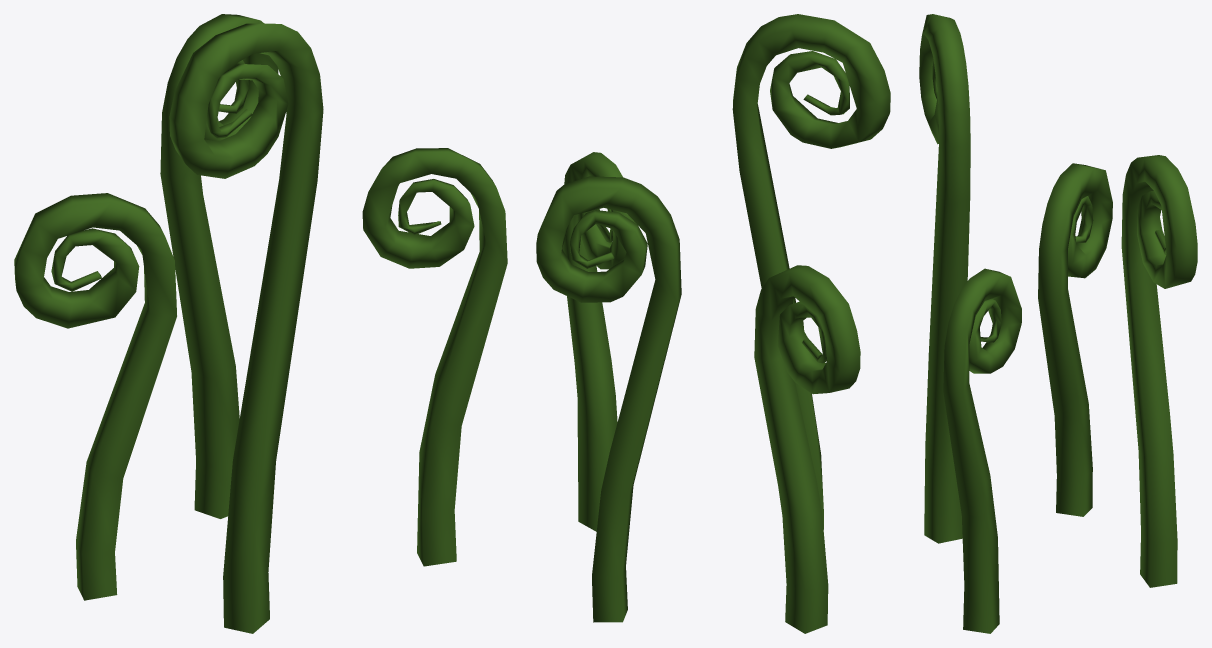
Rendered from plant-3.glb.
The picture shows the model from 3 angles, left to right: view 1: azimuth 30°, elevation 25°; view 2: azimuth 150°, elevation 25°; view 3: azimuth 270°, elevation 25°; orthographic projection. The views are drawn at different scales.
Visible parts, largest first — view 1: Plant_3; view 2: Plant_3; view 3: Plant_3.
Boxes of the visible parts, left/top/right/bottom form: Plant_3: left=14, top=14, right=507, bottom=633; Plant_3: left=536, top=14, right=890, bottom=633; Plant_3: left=919, top=14, right=1197, bottom=633.
Bounding box in the file's own units: 2.12 × 2.97 × 1.44.
